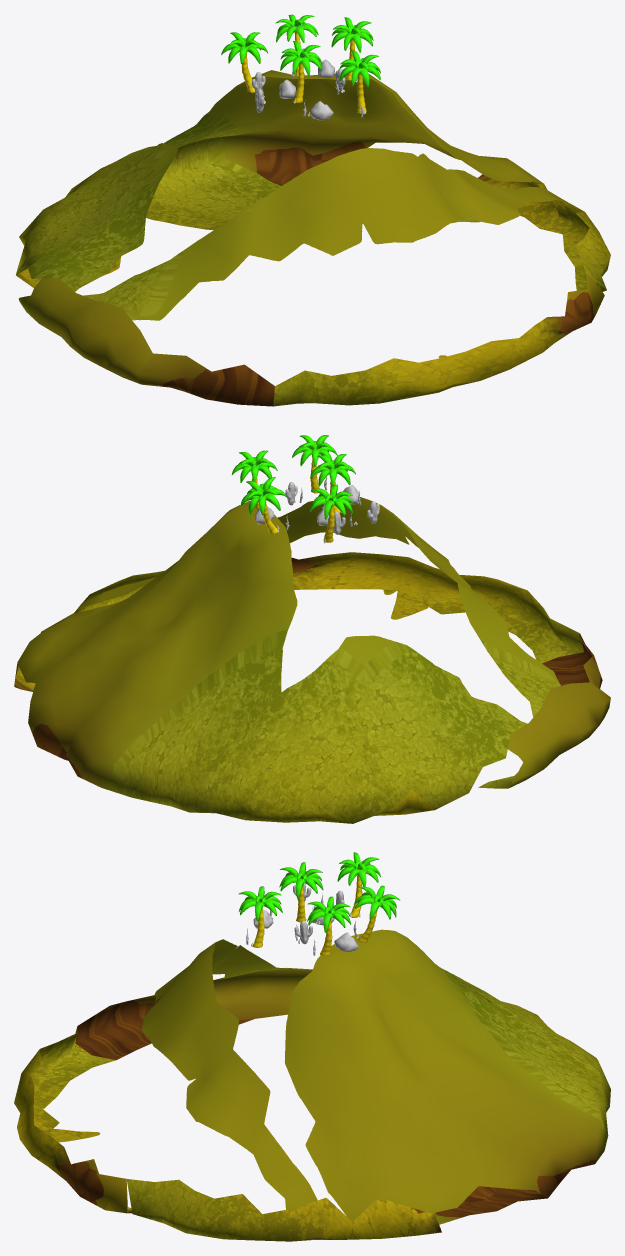
File: MiniIslandPiaSDet.fbx
The picture shows the model from 3 angles, top to bottom: view 1: azimuth 30°, elevation 25°; view 2: azimuth 150°, elevation 25°; view 3: azimuth 270°, elevation 25°; orthographic projection.
Visible parts, largest first — view 1: miniIslandlp, palm01.003, palm01.001, palm01.004, palm01.005, palm01.002; view 2: miniIslandlp, palm01.002, palm01.004, palm01.003, palm01.001, palm01.005; view 3: miniIslandlp, palm01.003, palm01.004, palm01.005, palm01.002, palm01.001.
Part boxes in pixels (x1,y1,x2,y2): miniIslandlp: [16, 70, 610, 406]; palm01.003: [339, 50, 380, 113]; palm01.001: [280, 41, 321, 103]; palm01.004: [221, 32, 268, 92]; palm01.005: [331, 17, 373, 80]; palm01.002: [275, 14, 318, 76]; miniIslandlp: [14, 497, 610, 823]; palm01.002: [240, 477, 286, 534]; palm01.004: [310, 484, 353, 542]; palm01.003: [292, 435, 337, 493]; palm01.001: [310, 454, 355, 513]; palm01.005: [231, 450, 277, 509]; miniIslandlp: [14, 929, 610, 1241]; palm01.003: [238, 886, 282, 947]; palm01.004: [337, 852, 380, 917]; palm01.005: [307, 896, 350, 955]; palm01.002: [353, 885, 400, 943]; palm01.001: [279, 862, 323, 922].
Bounding box in the file's own units: 227 × 105 × 228.
